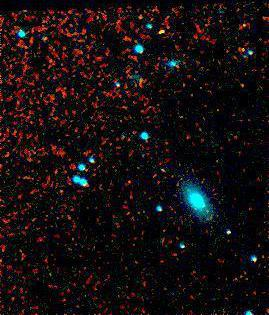star: (174, 176, 204, 206)
